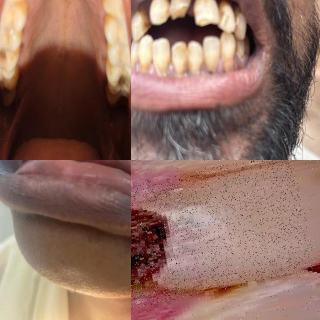calculus: (154, 59, 169, 76), (236, 50, 250, 66), (142, 58, 152, 74)
cavities: (131, 184, 209, 314), (116, 70, 128, 94)
stains: (0, 40, 22, 66), (220, 0, 238, 28), (172, 46, 190, 73), (133, 7, 151, 32), (138, 45, 152, 74), (232, 8, 245, 36), (190, 46, 203, 74), (156, 49, 170, 75), (13, 0, 28, 24), (100, 58, 115, 81), (101, 10, 115, 34), (222, 43, 234, 70), (13, 26, 25, 49), (103, 84, 113, 103), (131, 48, 140, 68), (237, 41, 245, 63), (105, 41, 113, 62), (102, 0, 115, 9)
